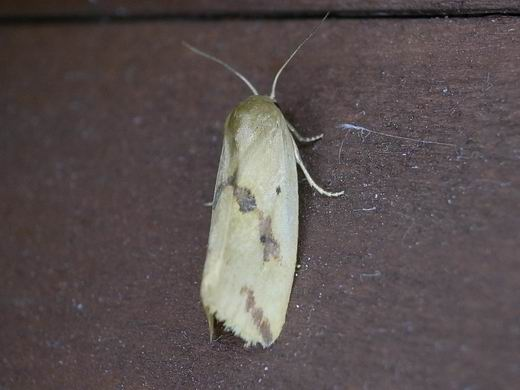Noctuidae: (180, 12, 347, 352)
